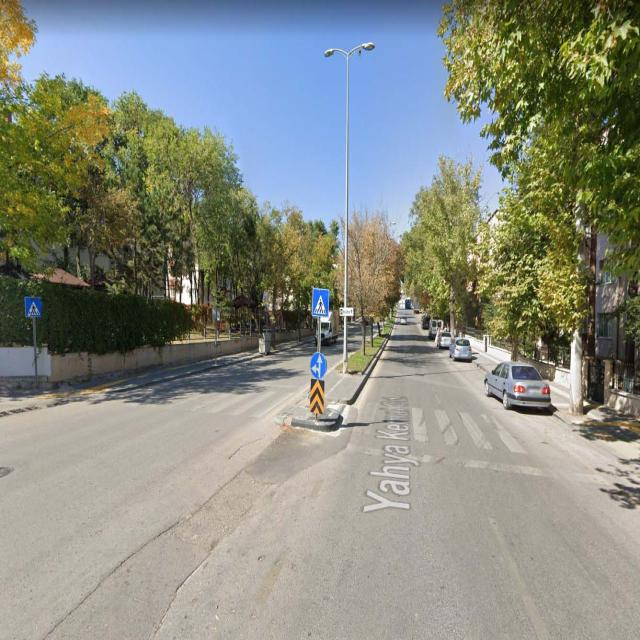ilerisol: (310, 352, 326, 379)
